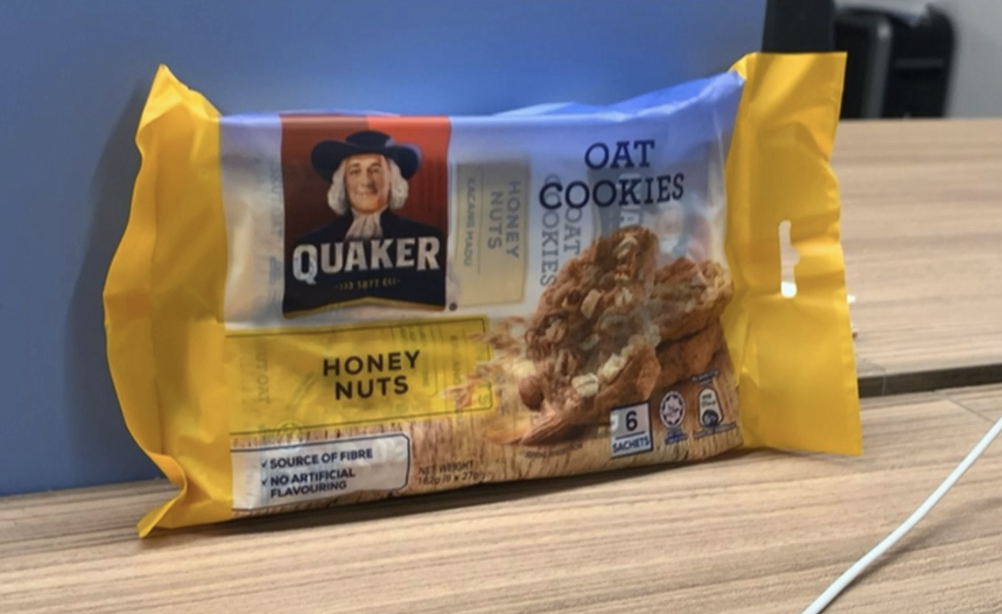cookies_100g-199g: (231, 148, 736, 433)
